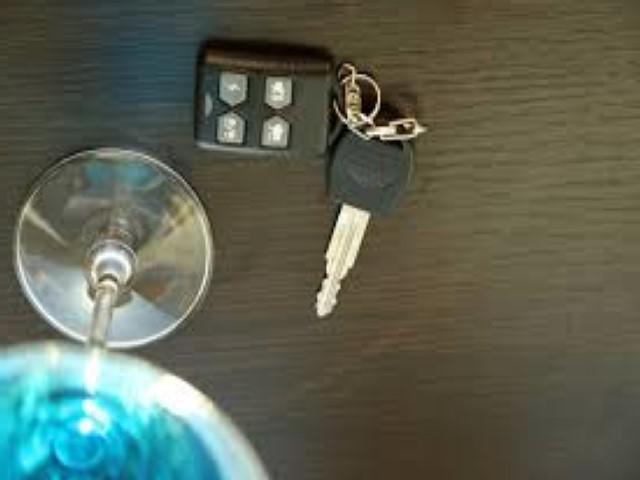key: (312, 120, 416, 416)
